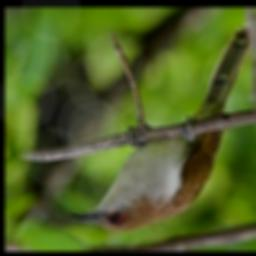Cuckoo: (65, 26, 250, 232)
